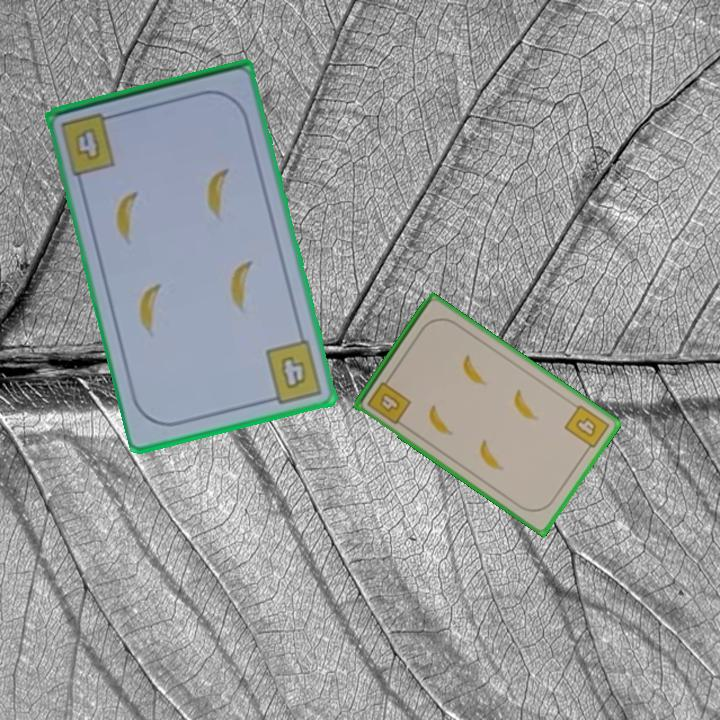4b: (262, 336, 326, 407), (57, 109, 121, 178), (561, 401, 612, 456), (363, 373, 414, 427)
